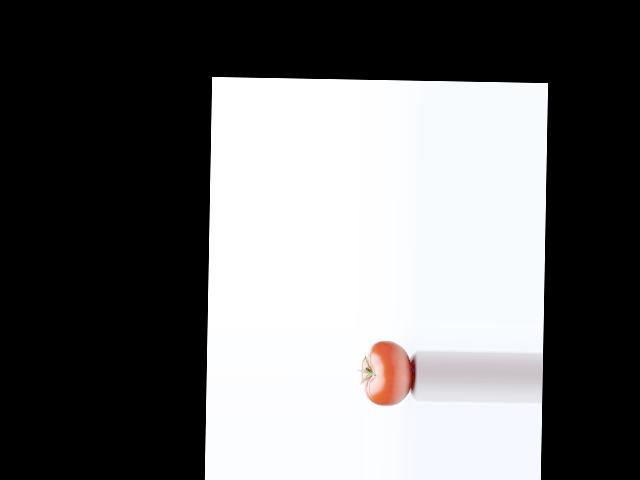tomato: (360, 340, 412, 406)
